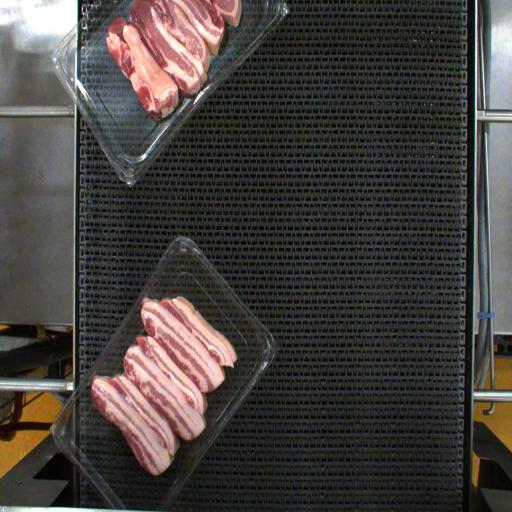packaging-error: (77, 357, 107, 396), (134, 288, 156, 315)
